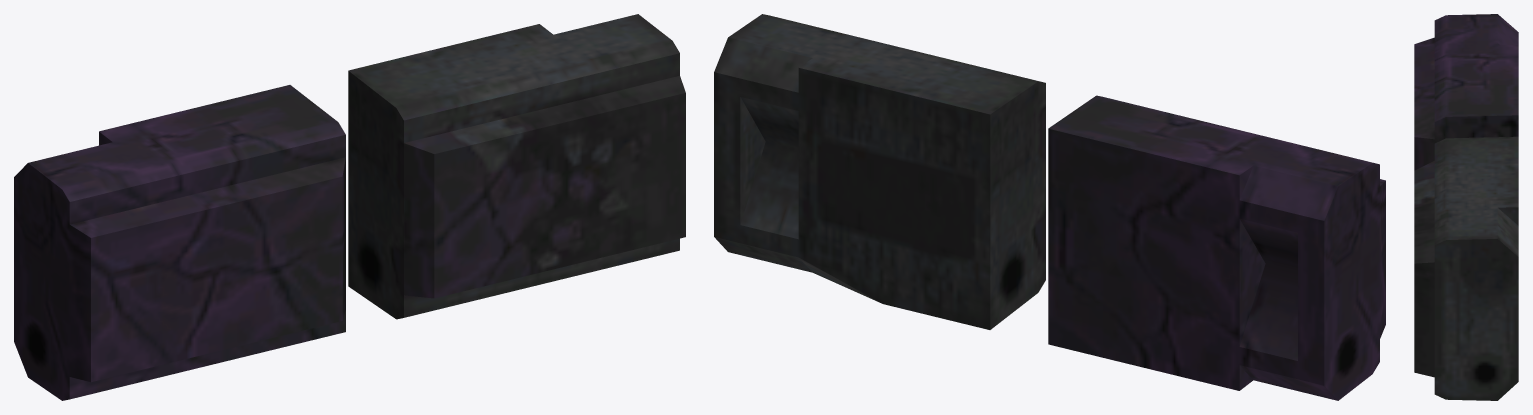
3 renders of one model, left to right at view 1: azimuth 30°, elevation 25°; view 2: azimuth 150°, elevation 25°; view 3: azimuth 270°, elevation 25°, orthographic. The views are drawn at different scales.
Parts seen in each view (by area): view 1: set_0_group_0; view 2: set_0_group_0; view 3: set_0_group_0.
Part boxes in pixels (x1=…): set_0_group_0: x1=14, y1=14, x2=685, y2=400; set_0_group_0: x1=714, y1=14, x2=1385, y2=400; set_0_group_0: x1=1414, y1=14, x2=1518, y2=400.
Bounding box in the file's own units: 0.5112 × 0.1727 × 0.1005.
Materials: 1 (1 with a texture image).
